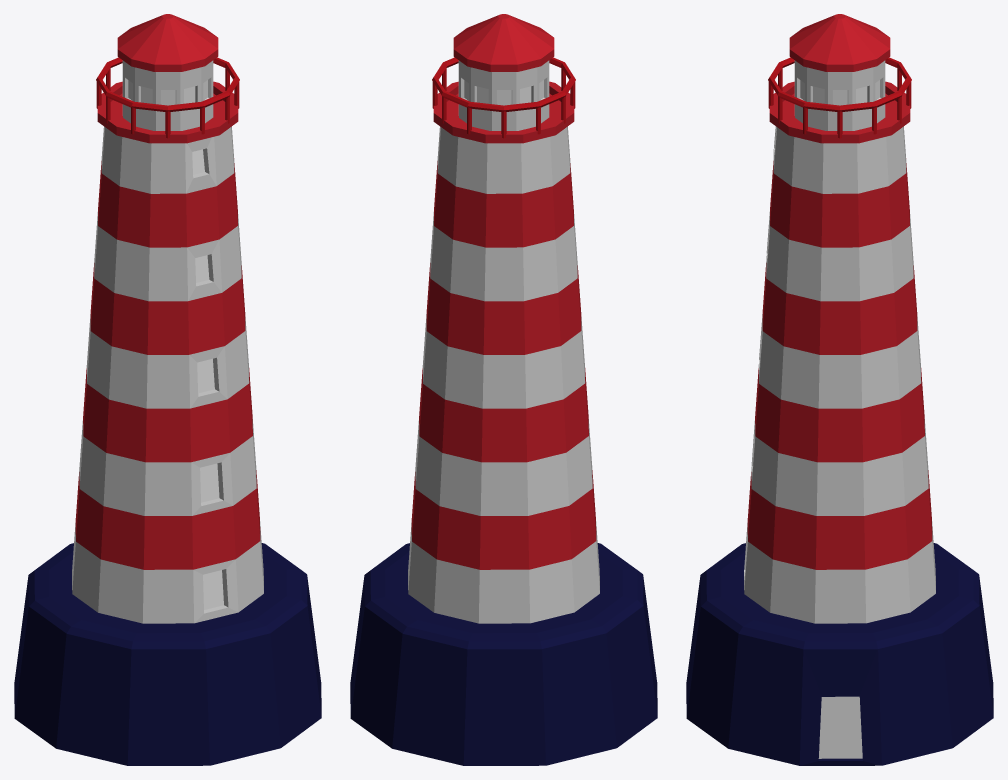
Rendered from parola-night-ver-2.fbx.
The picture shows the model from 3 angles, left to right: view 1: azimuth 30°, elevation 25°; view 2: azimuth 150°, elevation 25°; view 3: azimuth 270°, elevation 25°; orthographic projection.
Parts seen in each view (by area): view 1: Cylinder; view 2: Cylinder; view 3: Cylinder.
Part boxes in pixels (x1,y1,x2,y2): Cylinder: (14, 14, 321, 765); Cylinder: (350, 14, 657, 765); Cylinder: (686, 14, 993, 765).
Bounding box in the file's own units: 2.14 × 5.24 × 2.13.
